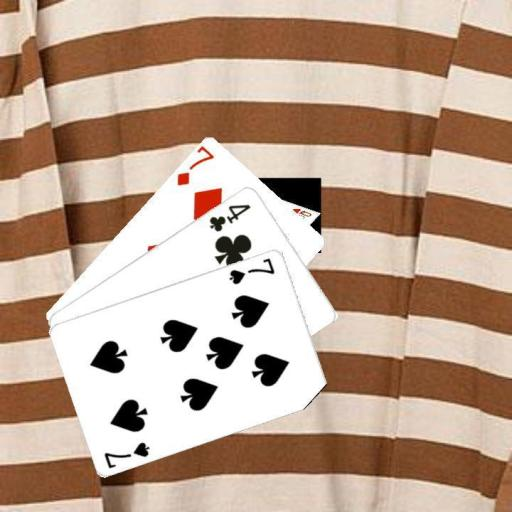card-corner: (174, 143, 216, 187), (226, 254, 277, 286), (101, 438, 151, 470), (206, 201, 252, 233)
